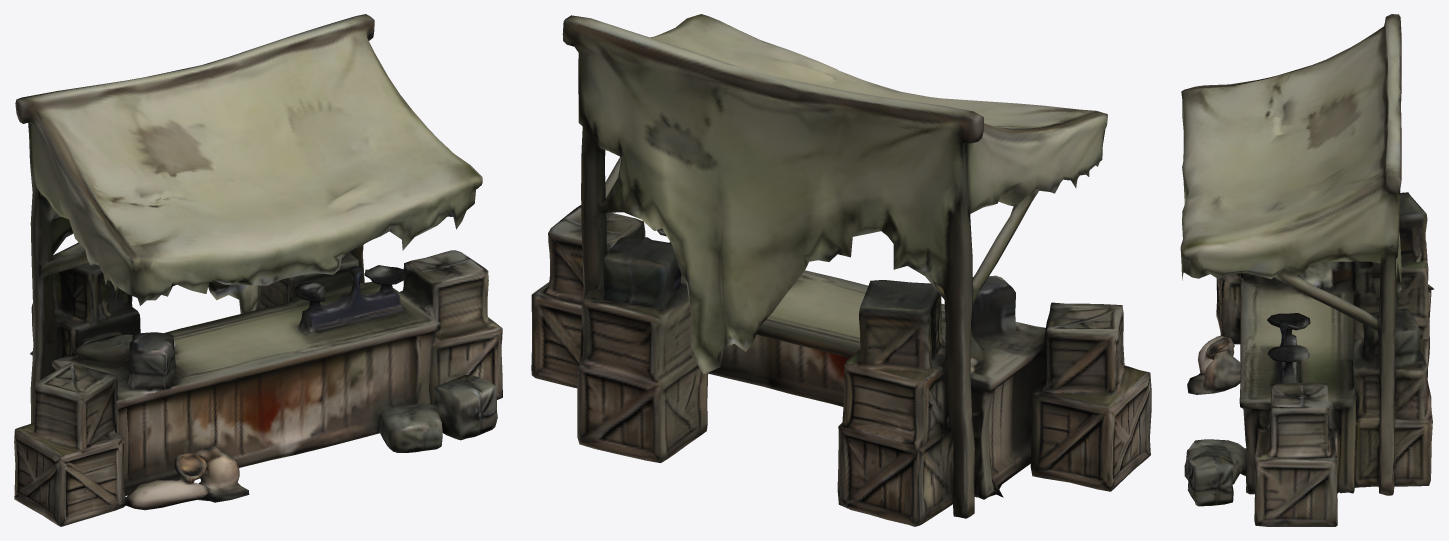
Rendered from market_stall.glb.
3 views of the same model, side by side, from view 1: azimuth 30°, elevation 25°; view 2: azimuth 150°, elevation 25°; view 3: azimuth 270°, elevation 25° (orthographic). The views are drawn at different scales.
Parts seen in each view (by area): view 1: MarketStall; view 2: MarketStall; view 3: MarketStall.
Boxes of the visible parts, x1,y1,x2,y2 form: MarketStall: (14,14,502,526); MarketStall: (531,14,1151,526); MarketStall: (1180,14,1434,526).
Bounding box in the file's own units: 2.5 × 1.78 × 1.24.
1 material, 1 textured.
